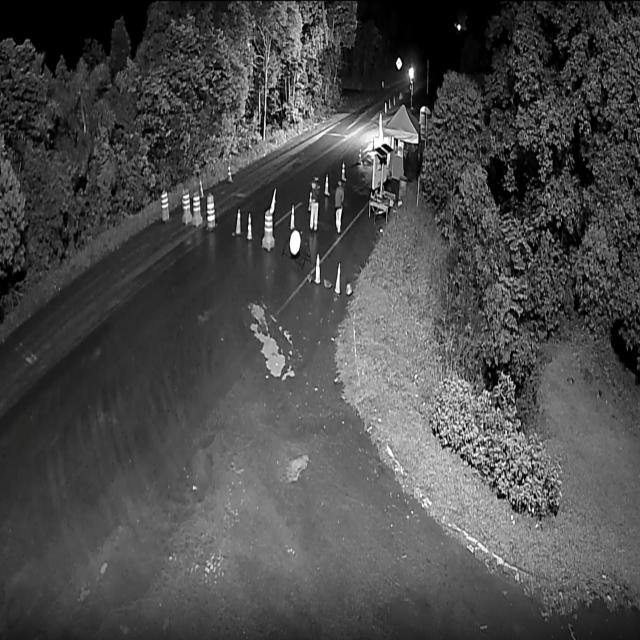big_cone: (264, 209, 273, 250), (206, 193, 215, 230), (182, 189, 191, 225), (193, 191, 200, 227), (161, 187, 168, 222)
small_cone: (334, 260, 342, 297), (313, 252, 321, 287), (235, 207, 242, 238), (197, 176, 205, 201), (226, 162, 235, 184), (247, 212, 253, 243), (339, 157, 347, 180), (290, 202, 296, 231), (324, 171, 329, 198)
